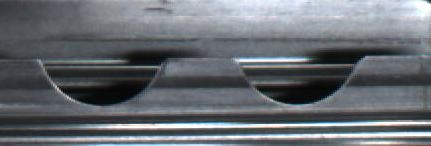twou: (38, 46, 360, 115)
